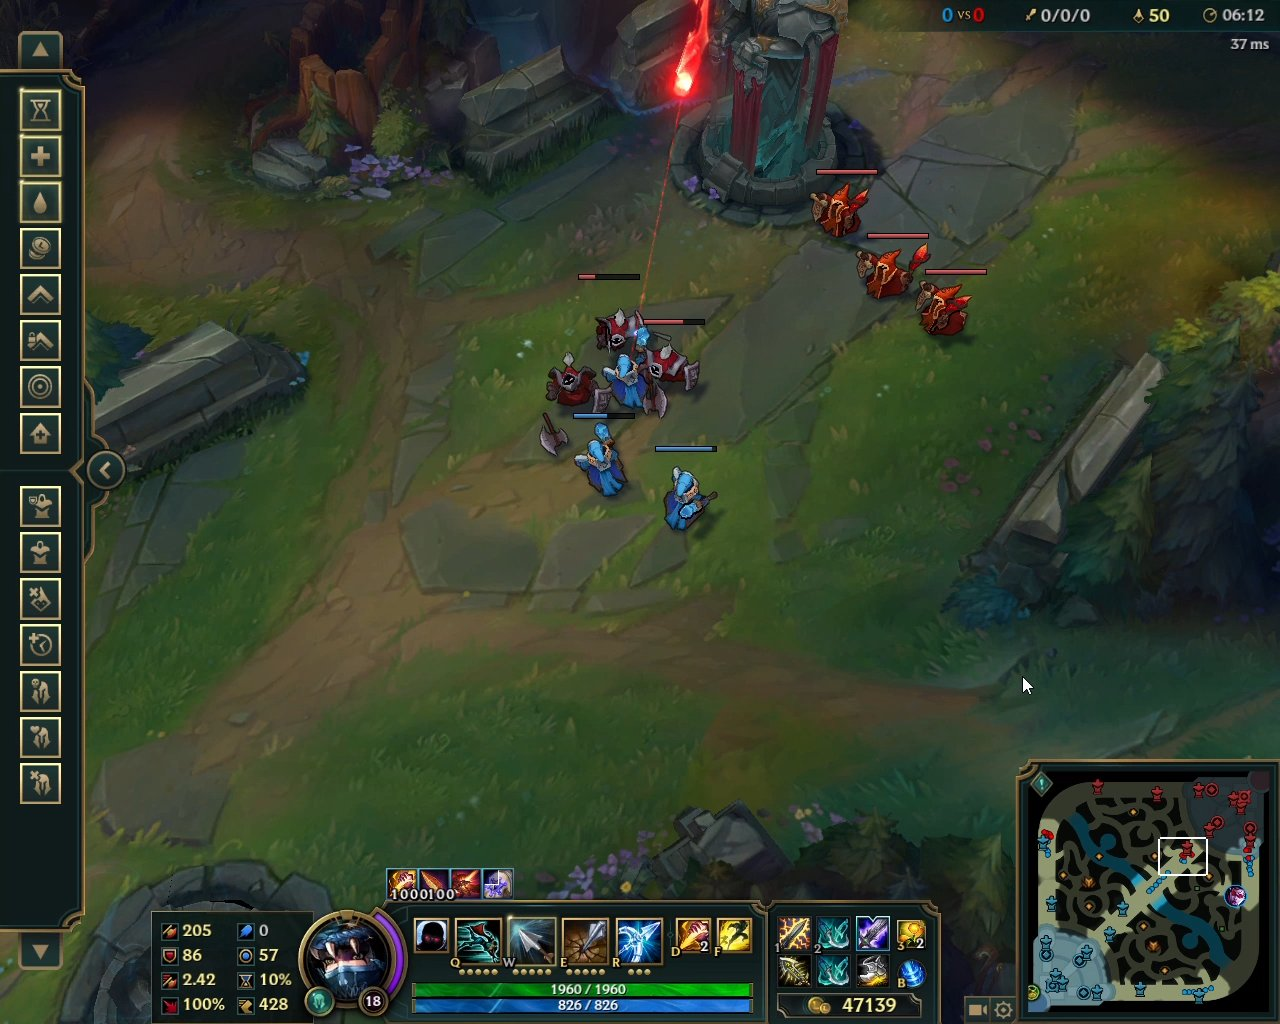EnemyMinion: (636, 315, 705, 422), (850, 231, 935, 305), (806, 168, 886, 243), (579, 271, 648, 355), (912, 267, 990, 340)
Tower: (681, 1, 850, 214)
